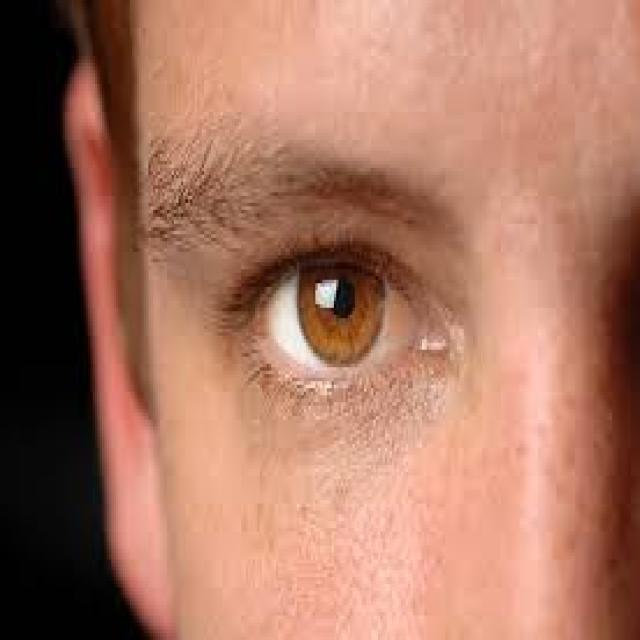Normal: (151, 216, 477, 464)
